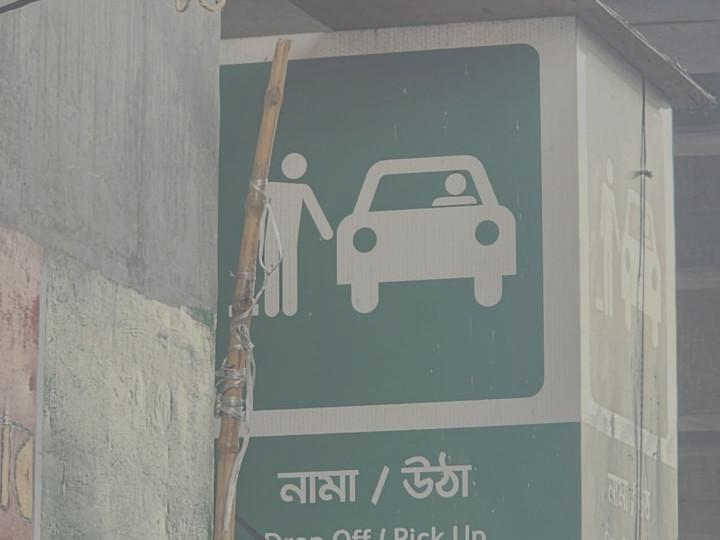Metro Dorp Up Pick up: (205, 1, 720, 540)
